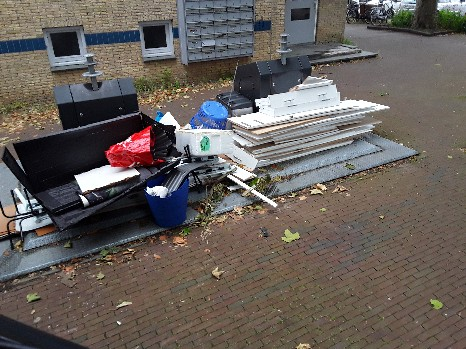Container: (58, 81, 135, 125), (236, 54, 312, 85)
Rest: (92, 132, 194, 213), (255, 96, 362, 167), (31, 147, 113, 237), (166, 120, 241, 196), (210, 94, 265, 161)
